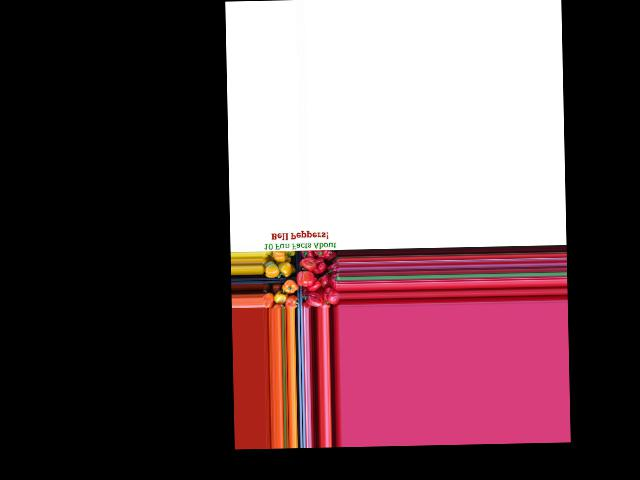bell_pepper: (309, 247, 331, 261)
